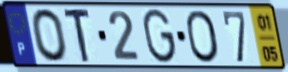2: (107, 9, 143, 64)
7: (220, 9, 247, 64)
G: (141, 7, 178, 66)
O: (29, 7, 70, 65), (184, 9, 223, 65)
T: (62, 6, 93, 65)
